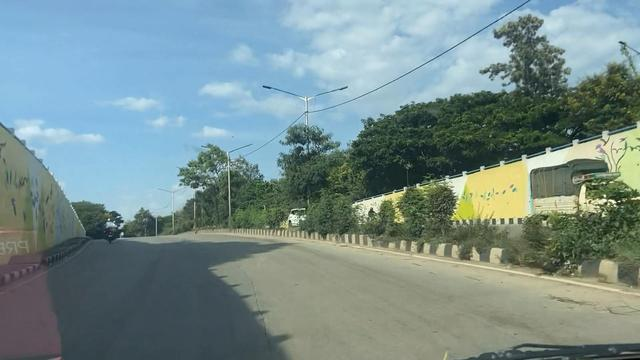LMV: (105, 219, 116, 243)
